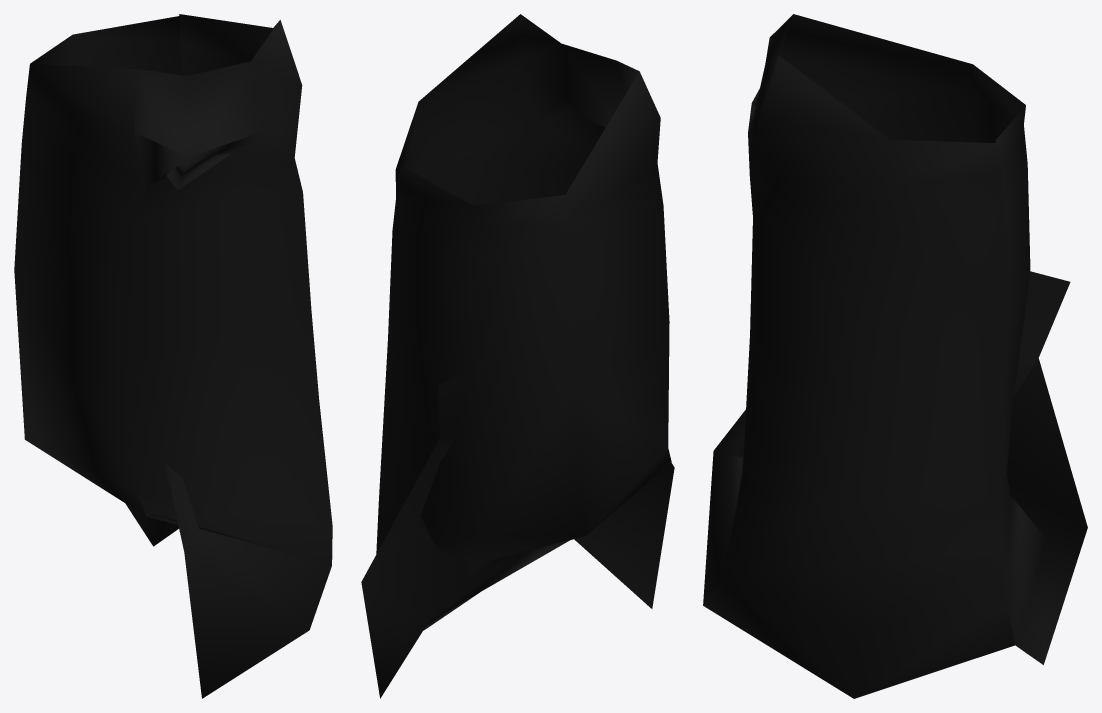
File: left_arm.glb
3 renders of one model, left to right at view 1: azimuth 30°, elevation 25°; view 2: azimuth 150°, elevation 25°; view 3: azimuth 270°, elevation 25°, orthographic. The views are drawn at different scales.
Parts seen in each view (by area): view 1: sweater-black_LEFT_ARM; view 2: sweater-black_LEFT_ARM; view 3: sweater-black_LEFT_ARM.
Part boxes in pixels (x1,y1,x2,y2): sweater-black_LEFT_ARM: [14, 14, 332, 698]; sweater-black_LEFT_ARM: [361, 14, 674, 698]; sweater-black_LEFT_ARM: [703, 14, 1087, 698].
Bounding box in the file's own units: 0.1311 × 0.3242 × 0.1839.
1 material, 1 textured.
